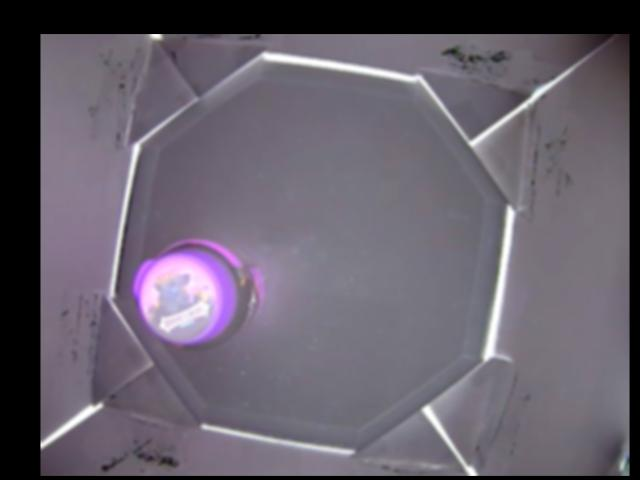Bottle: (129, 240, 265, 349)
